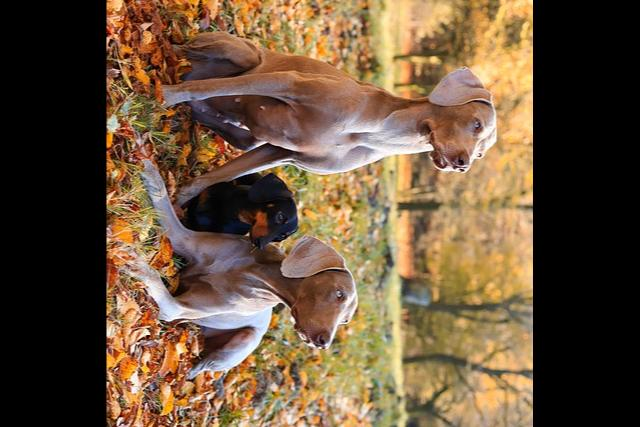Non_Gorille: (152, 0, 530, 427)
